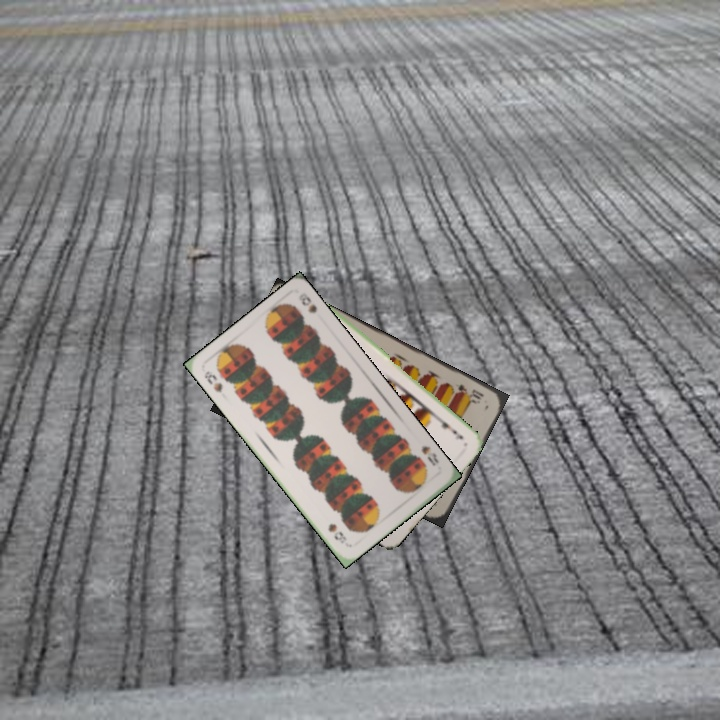E10: (454, 380, 487, 405)
E7: (436, 413, 466, 442)
S8: (200, 367, 225, 395), (417, 442, 441, 468)
